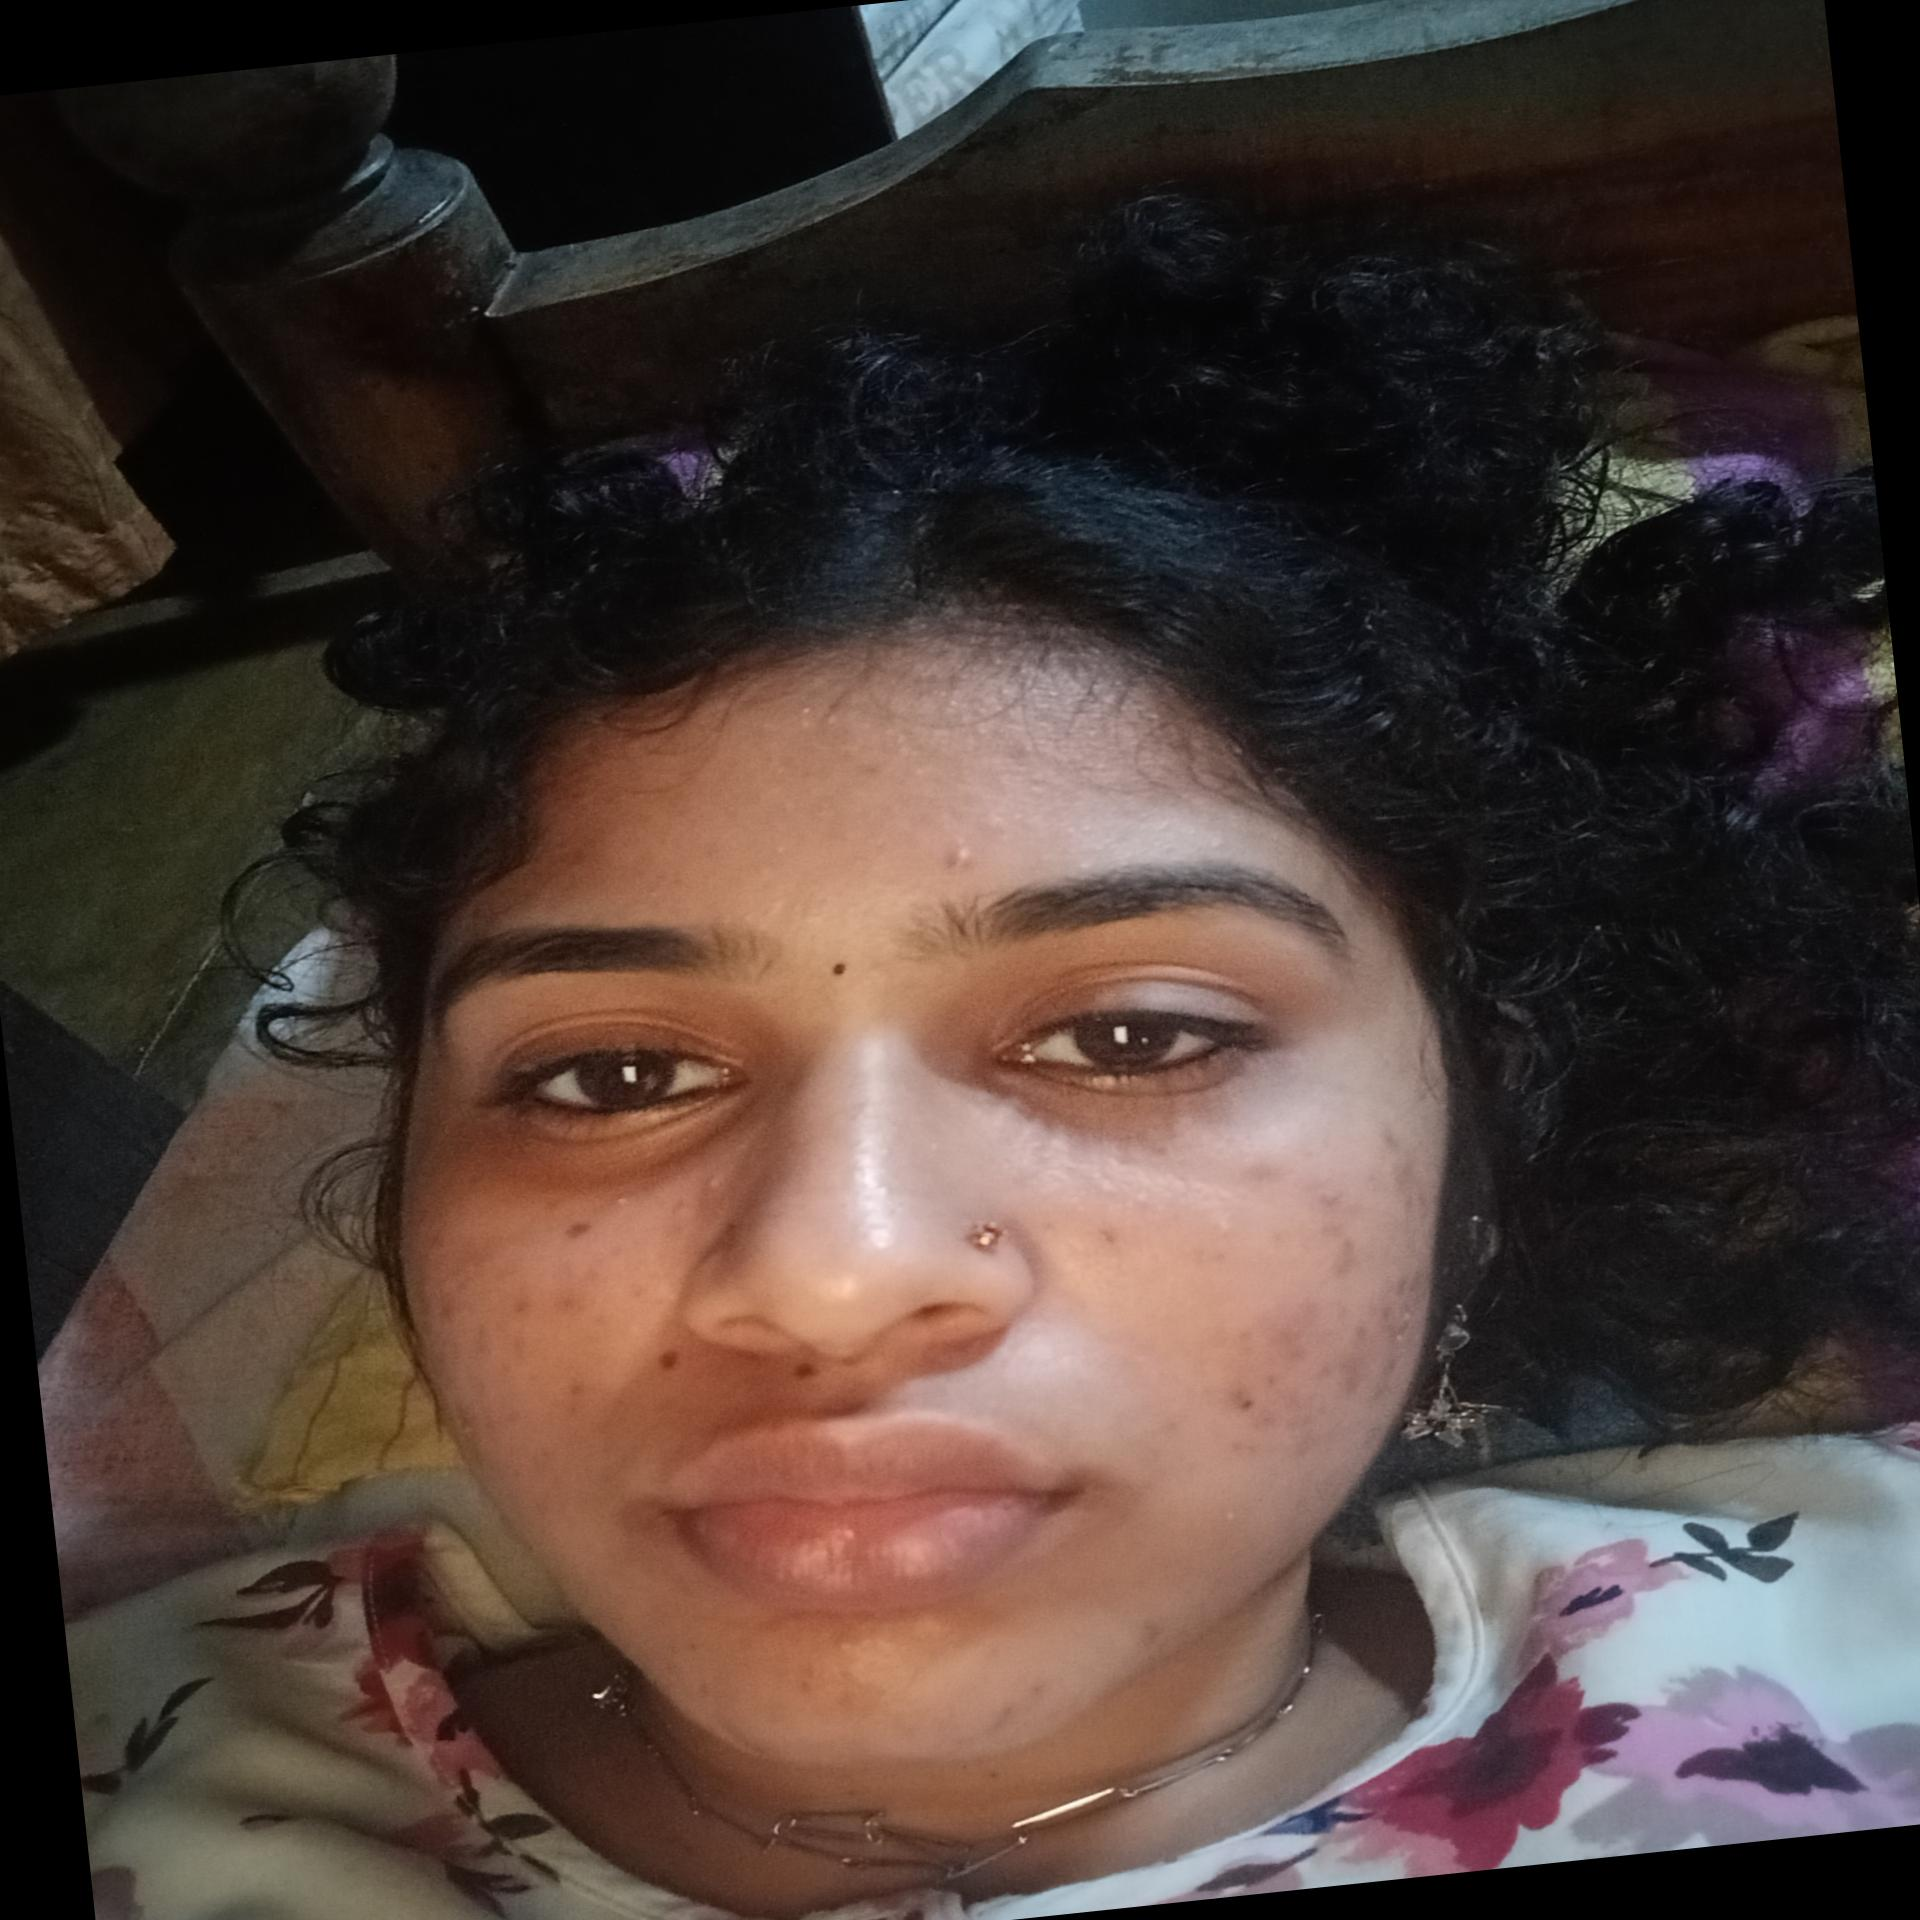Acne: (1322, 1269, 1435, 1405), (1213, 1303, 1331, 1422), (962, 1672, 1057, 1744), (417, 1287, 499, 1363), (1371, 1118, 1438, 1210), (496, 1282, 582, 1322), (775, 1642, 839, 1697), (1087, 1213, 1146, 1264), (1236, 1153, 1305, 1196), (1118, 1605, 1176, 1647), (944, 840, 986, 883), (554, 1213, 601, 1248), (1310, 1182, 1359, 1215), (691, 1159, 730, 1201), (596, 1183, 642, 1213), (1331, 1227, 1361, 1273), (1220, 1208, 1261, 1241)
